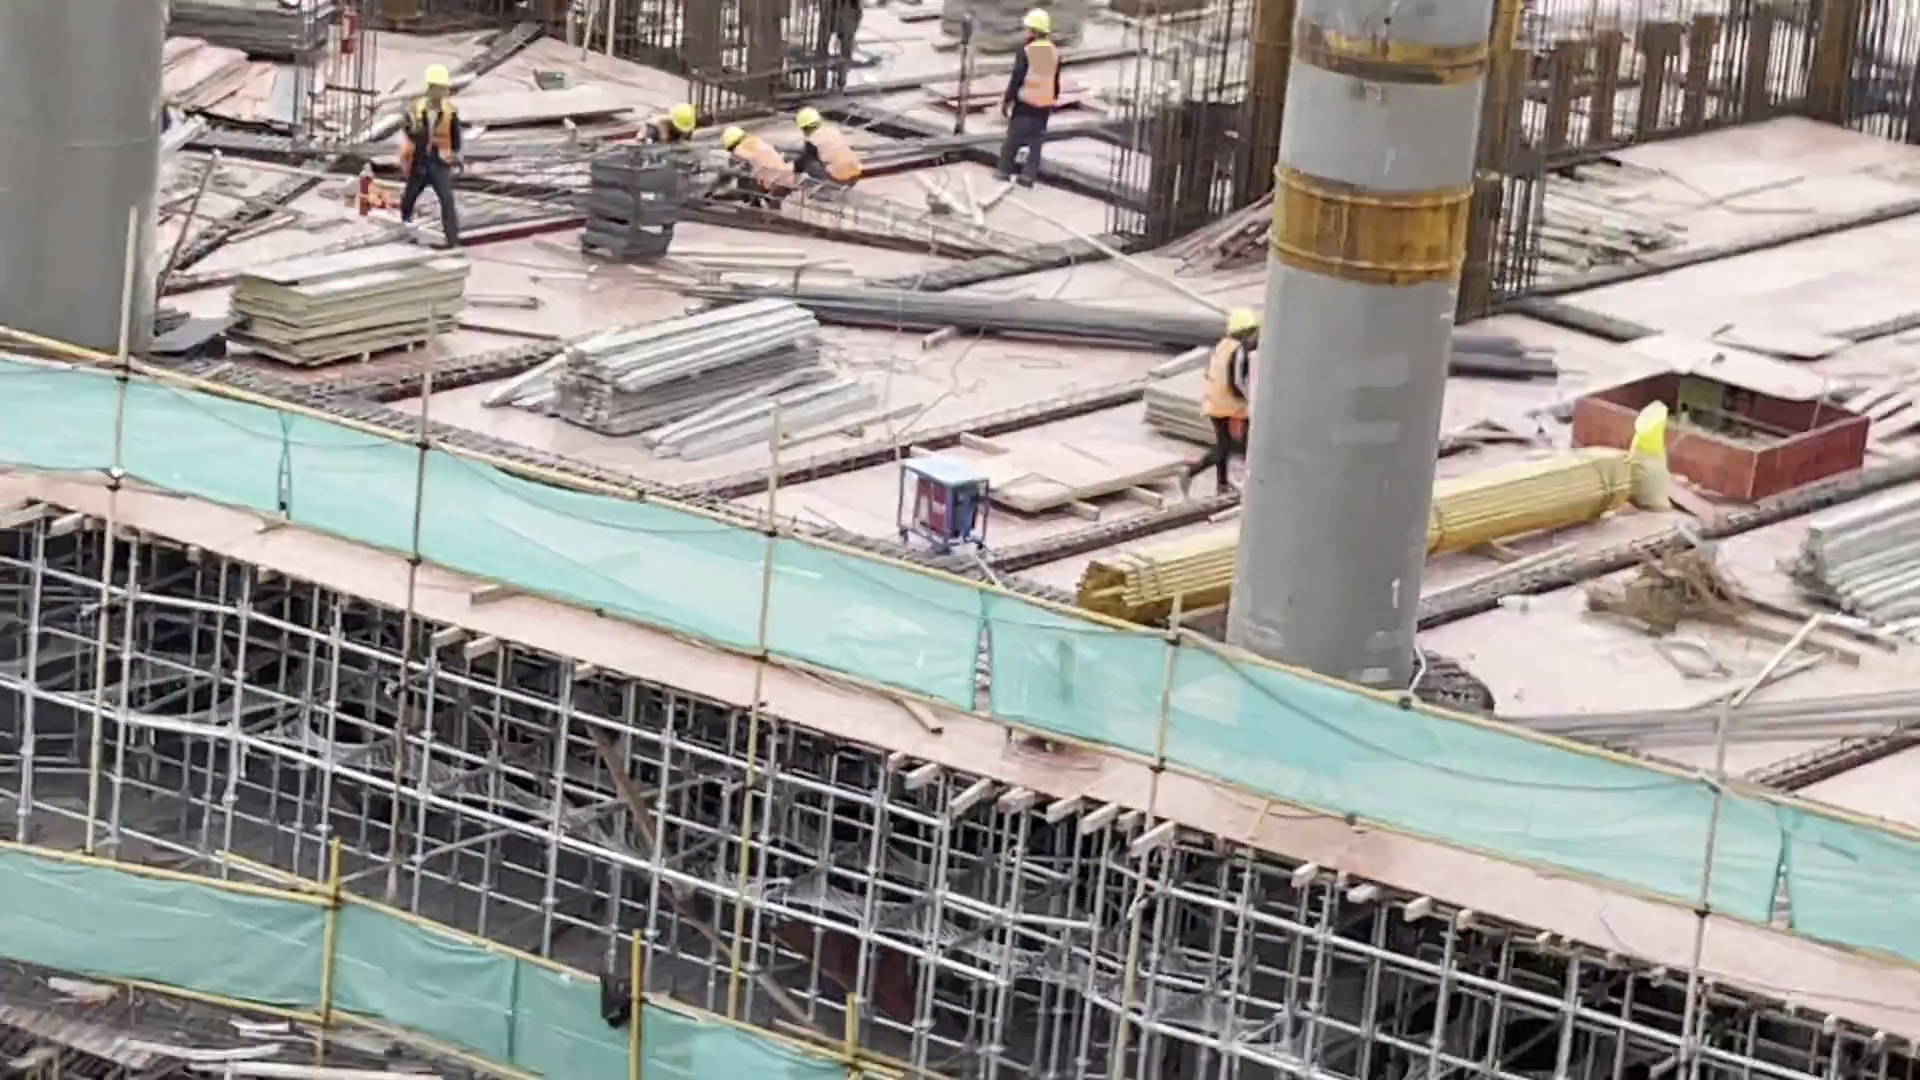board: (220, 234, 466, 361), (1138, 341, 1208, 448)
helmet: (1225, 303, 1259, 338), (671, 100, 698, 135), (423, 61, 453, 89), (1023, 5, 1052, 33), (794, 103, 822, 129), (718, 125, 746, 150)
person: (1188, 306, 1260, 503), (395, 61, 468, 248), (998, 8, 1064, 185), (713, 123, 793, 219), (788, 99, 857, 201), (638, 92, 697, 154)
vest: (1203, 335, 1252, 423), (413, 94, 463, 167), (1019, 40, 1066, 110), (809, 126, 863, 183)
